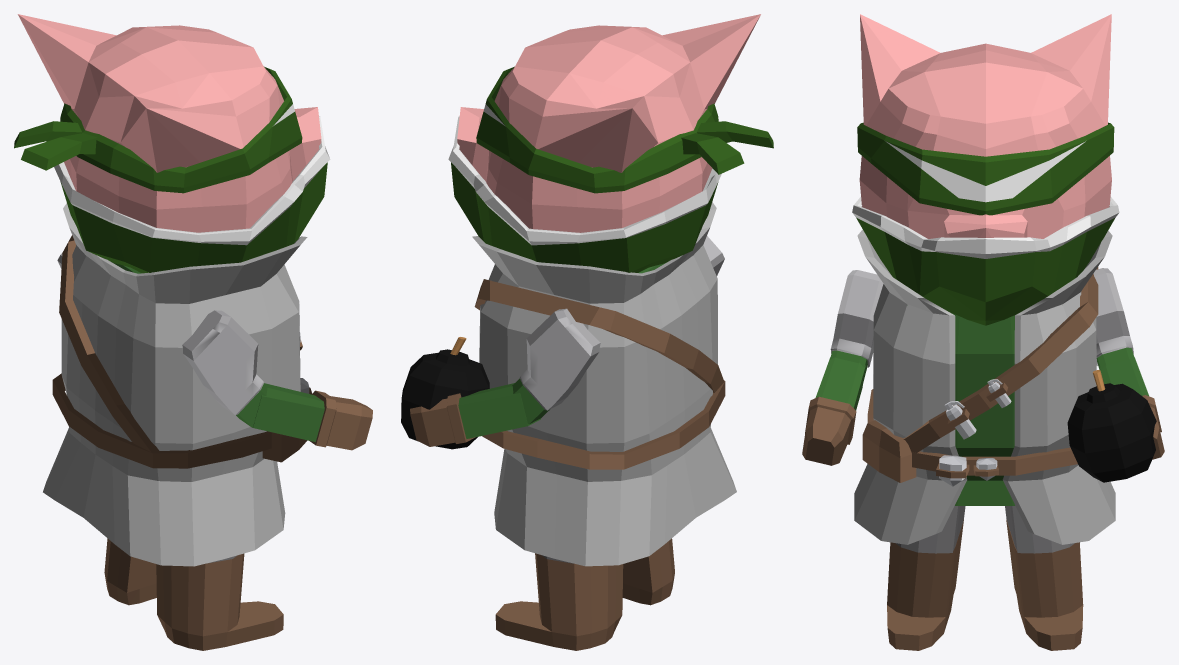
Rendered from bombardier.glb.
3 views of the same model, side by side, from view 1: azimuth 30°, elevation 25°; view 2: azimuth 150°, elevation 25°; view 3: azimuth 270°, elevation 25° (orthographic). The views are drawn at different scales.
Parts seen in each view (by area): view 1: bombardier; view 2: bombardier; view 3: bombardier.
Boxes of the visible parts, left/top/right/bottom form: bombardier: left=14, top=14, right=372, bottom=650; bombardier: left=401, top=14, right=773, bottom=650; bombardier: left=802, top=14, right=1164, bottom=650.
Size of the model in its own units: 2.78 by 4.95 by 2.9.
10 materials, 4 textured.
